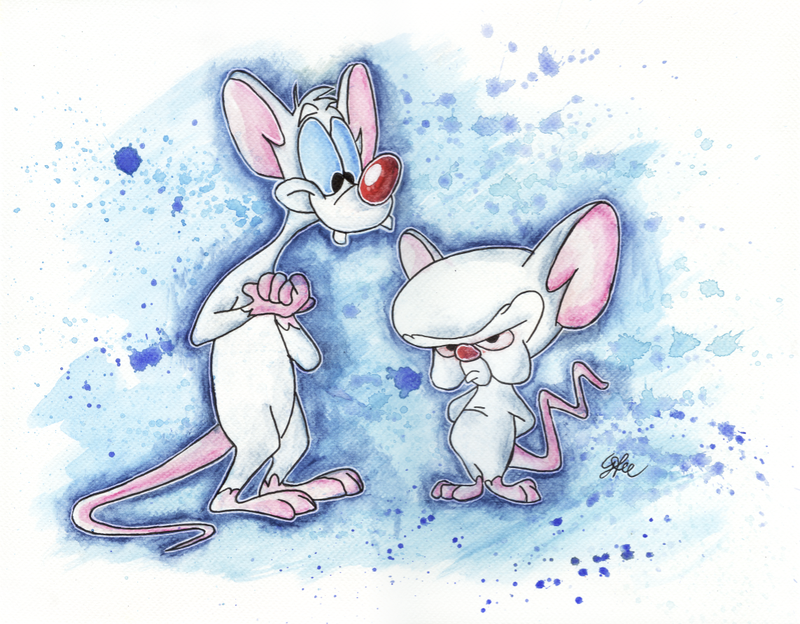cerebro: (393, 191, 624, 531)
pink: (60, 39, 400, 559)
